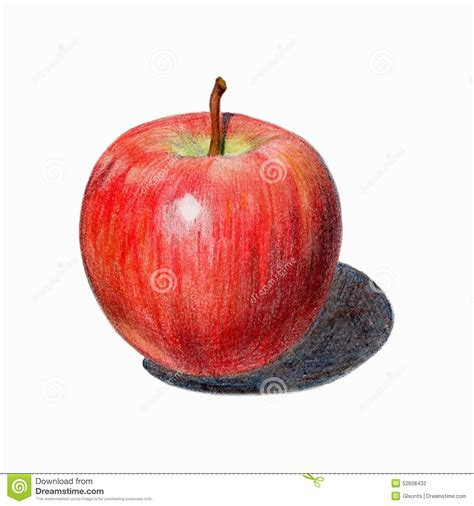apple: (75, 109, 345, 380)
